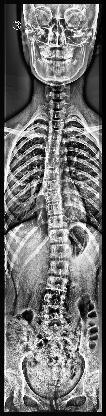Vertebrae: (40, 292, 68, 310), (40, 308, 68, 326), (46, 228, 70, 244), (45, 276, 69, 290), (49, 245, 71, 259), (48, 261, 70, 275), (46, 215, 68, 227), (44, 190, 64, 202), (46, 202, 64, 214), (42, 180, 62, 190), (45, 148, 61, 160), (47, 128, 63, 140), (46, 138, 63, 148), (44, 169, 60, 179), (50, 118, 64, 128), (44, 160, 60, 168)
